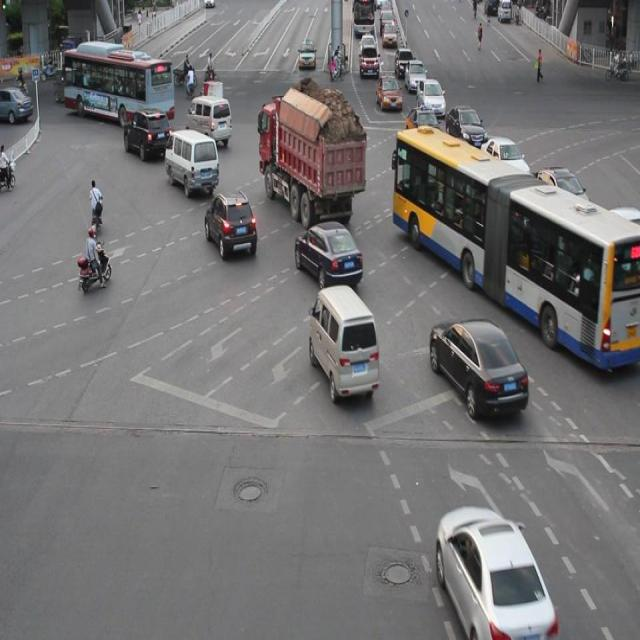bus: (258, 97, 365, 223)
car: (434, 502, 557, 640), (428, 317, 527, 417), (294, 221, 362, 289), (552, 216, 614, 285), (532, 163, 589, 223), (203, 190, 256, 254), (484, 200, 541, 258), (439, 143, 490, 205), (122, 108, 174, 159), (478, 135, 528, 184), (603, 203, 640, 257), (404, 105, 443, 150), (444, 105, 485, 147)
truck: (307, 284, 378, 400), (164, 128, 219, 197), (185, 94, 231, 148)
van: (392, 127, 640, 370), (61, 45, 176, 124)
